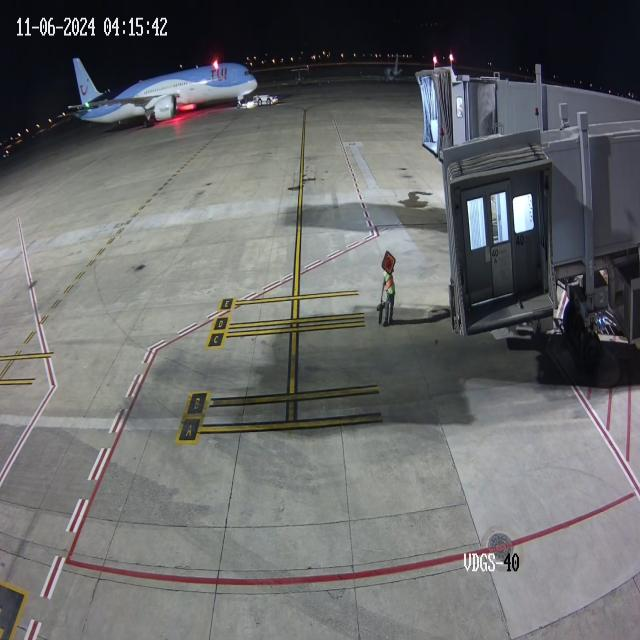bridge: (447, 41, 503, 149)
plane: (65, 50, 258, 129)
